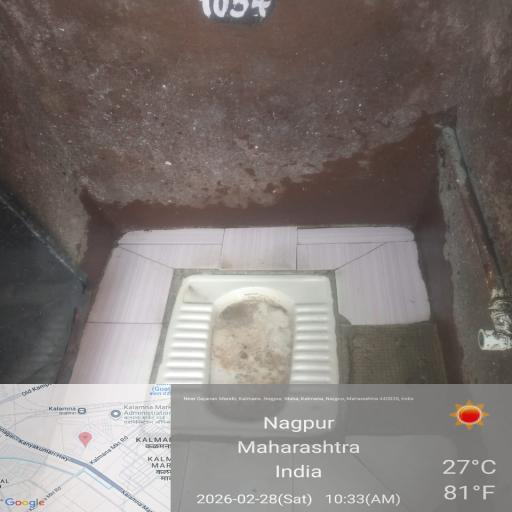clean_floor: (17, 401, 512, 512)
dirty_indian: (128, 252, 374, 466)
partial_dirty_floor: (19, 2, 511, 241)
